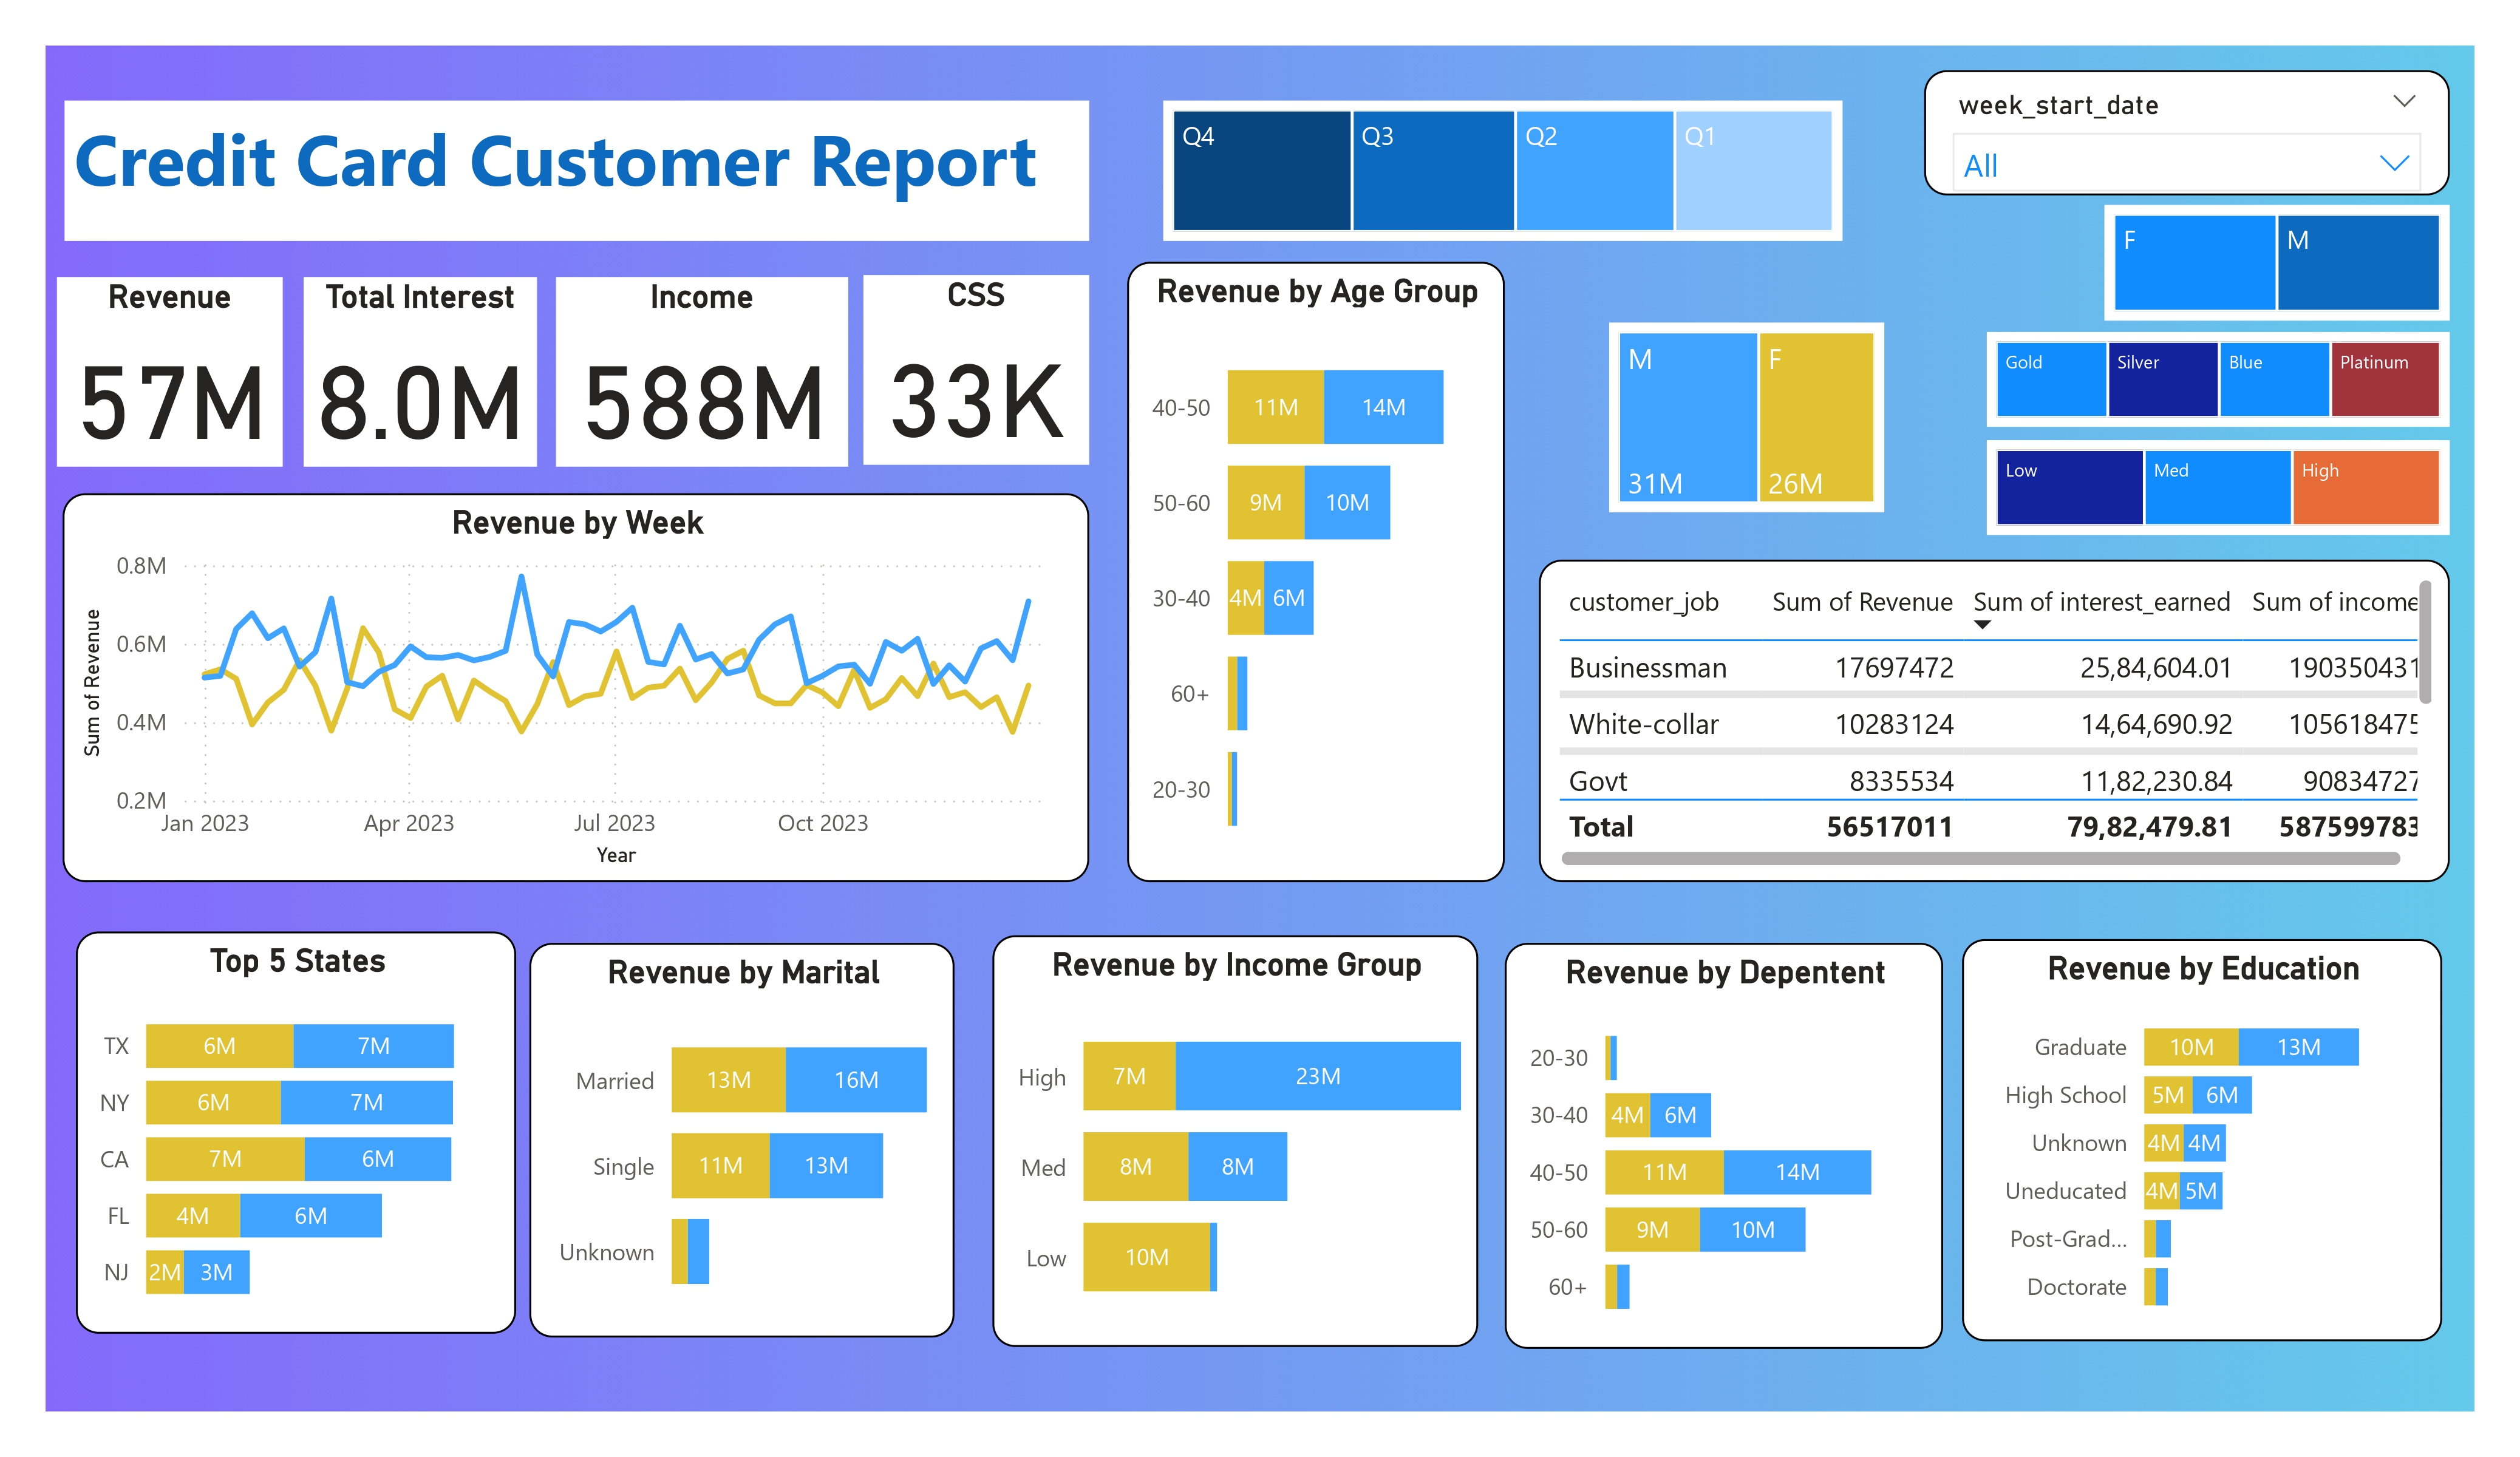

Layout of this report page (visuals, bound fields, positions):
{"tool":"powerbi","page":{"name":"CC Customer","canvas":[1280,720],"ordinal":1},"visuals":[{"type":"textbox","box":[10,28.6,540,74.3],"z":0},{"type":"barChart","title":"Revenue by Income Group","fields":{"Y":["Sum(public cc_detail.Revenue)"],"Category":["public cust_detail.IncomeGroup"],"Series":["public cust_detail.gender"]},"box":[499,468.6,255.7,217.1],"z":1000},{"type":"tableEx","fields":{"Values":["public cust_detail.customer_job","Sum(public cc_detail.Revenue)","Sum(public cc_detail.interest_earned)","Sum(public cust_detail.income)"]},"box":[787.1,271.4,480,170],"z":2000},{"type":"card","title":"Revenue","fields":{"Values":["Sum(public cc_detail.Revenue)"]},"box":[6.4,121.9,118.3,100],"z":3000},{"type":"card","title":"Income","fields":{"Values":["Sum(public cust_detail.income)"]},"box":[268.7,122.4,154.4,100],"z":4000},{"type":"card","title":"Total Interest","fields":{"Values":["Sum(public cc_detail.interest_earned)"]},"box":[135.6,121.9,123.3,100],"z":5000},{"type":"card","title":"CSS","fields":{"Values":["Sum(public cust_detail.cust_satisfaction_score)"]},"box":[431.4,121.4,118.6,100],"z":6000},{"type":"slicer","fields":{"Values":["public cc_detail.week_start_date"]},"box":[990,12.9,277.1,65.7],"z":7000},{"type":"treemap","fields":{"Group":["public cc_detail.qtr"],"Values":["Avg(public cc_detail.client_num)"]},"box":[588.6,28.6,358.6,74.3],"z":8000},{"type":"treemap","fields":{"Group":["public cust_detail.gender"],"Values":["Avg(public cc_detail.client_num)"]},"box":[1084.5,83.6,182.7,61.8],"z":9000},{"type":"treemap","fields":{"Group":["public cc_detail.card_category"],"Values":["Avg(public cc_detail.client_num)"]},"box":[1022.9,150.7,244.3,50],"z":10000},{"type":"treemap","fields":{"Group":["public cust_detail.IncomeGroup"],"Values":["Avg(public cc_detail.client_num)"]},"box":[1022.7,208.2,244.5,50],"z":11000},{"type":"lineChart","title":"Revenue by Week","fields":{"Y":["Sum(public cc_detail.Revenue)"],"Series":["public cust_detail.gender"],"Category":["public cc_detail.week_start_date.Variation.Date Hierarchy.Year","public cc_detail.week_start_date.Variation.Date Hierarchy.Month","public cc_detail.week_start_date.Variation.Date Hierarchy.Day"]},"box":[8.6,235.7,541.4,205.7],"z":12000},{"type":"treemap","fields":{"Group":["public cust_detail.gender"],"Values":["Sum(public cc_detail.Revenue)"]},"box":[824.3,145.7,144.3,100],"z":13000},{"type":"barChart","title":"Revenue by Marital","fields":{"Y":["Sum(public cc_detail.Revenue)"],"Category":["public cust_detail.marital_status"],"Series":["public cust_detail.gender"]},"box":[254.7,472.8,224.3,208.6],"z":14000},{"type":"barChart","title":"Revenue by Age Group","fields":{"Y":["Sum(public cc_detail.Revenue)"],"Category":["public cust_detail.AgeGroup"],"Series":["public cust_detail.gender"]},"box":[570,114.3,198.6,327.1],"z":15000},{"type":"barChart","title":"Revenue by Education","fields":{"Y":["Sum(public cc_detail.Revenue)"],"Category":["public cust_detail.education_level"],"Series":["public cust_detail.gender"]},"box":[1010,471.4,252.9,211.4],"z":16000},{"type":"barChart","title":"Top 5 States","fields":{"Y":["Sum(public cc_detail.Revenue)"],"Category":["public cust_detail.state_cd"],"Series":["public cust_detail.gender"]},"box":[16.1,467.1,231.4,211.4],"z":17000},{"type":"barChart","title":"Revenue by Depentent","fields":{"Y":["Sum(public cc_detail.Revenue)"],"Category":["public cust_detail.AgeGroup"],"Series":["public cust_detail.gender"]},"box":[768.6,472.9,231.4,214.3],"z":18000}]}

Visuals, with their boxes in screenshot pixels (x1, y1, x2, y2):
textbox: (left=78, top=100, right=1089, bottom=239)
"Revenue by Income Group" barChart: (left=993, top=923, right=1473, bottom=1330)
tableEx - public cust_detail.customer_job x Sum(public cc_detail.Revenue): (left=1533, top=554, right=2432, bottom=872)
"Revenue" card: (left=71, top=274, right=293, bottom=461)
"Income" card: (left=562, top=275, right=851, bottom=463)
"Total Interest" card: (left=313, top=274, right=544, bottom=461)
"CSS" card: (left=867, top=273, right=1089, bottom=460)
slicer - public cc_detail.week_start_date: (left=1913, top=70, right=2432, bottom=193)
treemap - public cc_detail.qtr x Avg(public cc_detail.client_num): (left=1162, top=100, right=1833, bottom=239)
treemap - public cust_detail.gender x Avg(public cc_detail.client_num): (left=2090, top=202, right=2432, bottom=318)
treemap - public cc_detail.card_category x Avg(public cc_detail.client_num): (left=1975, top=328, right=2432, bottom=422)
treemap - public cust_detail.IncomeGroup x Avg(public cc_detail.client_num): (left=1974, top=436, right=2432, bottom=529)
"Revenue by Week" lineChart: (left=75, top=487, right=1089, bottom=872)
treemap - public cust_detail.gender x Sum(public cc_detail.Revenue): (left=1602, top=319, right=1873, bottom=506)
"Revenue by Marital" barChart: (left=536, top=931, right=956, bottom=1322)
"Revenue by Age Group" barChart: (left=1126, top=260, right=1499, bottom=872)
"Revenue by Education" barChart: (left=1950, top=928, right=2424, bottom=1324)
"Top 5 States" barChart: (left=89, top=920, right=523, bottom=1316)
"Revenue by Depentent" barChart: (left=1499, top=931, right=1932, bottom=1333)
